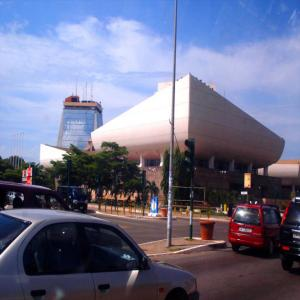Vehicle-registration-plate: (239, 228, 253, 233), (293, 233, 300, 239)
